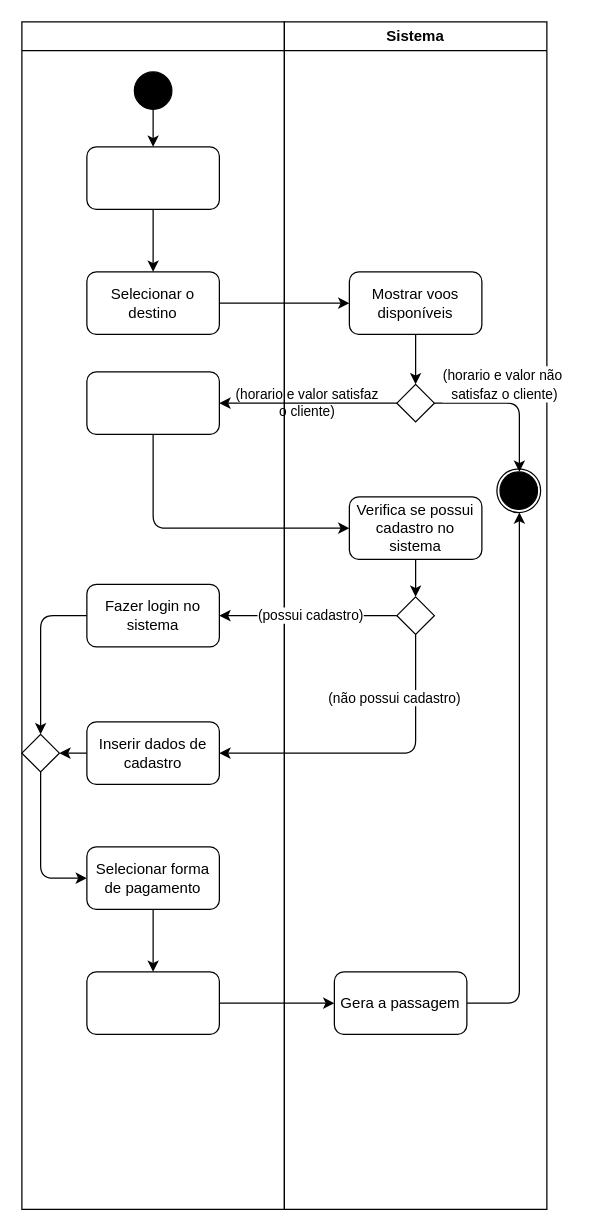
This 600x1231 diagram has some shape labels left out. The shapes that lost their labels are listed below. From the top down, each one's box as (x1, y1, x2, y2) in pixels, then its label:
(86, 146, 219, 209): Selecionar local de origem
(86, 371, 219, 434): Compra a passagem
(21, 21, 284, 1209): Cliente
(86, 971, 219, 1034): Confirmar compra
